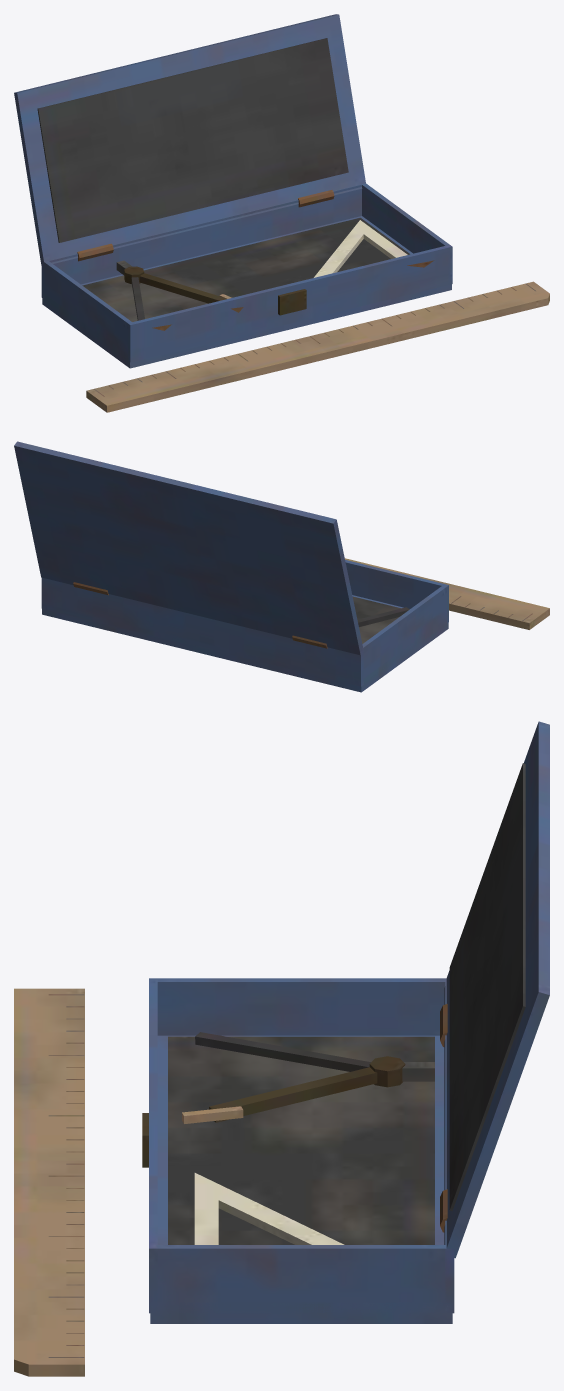
Rendered from SE02_ruler_and_geometry_box.glb.
3 views of the same model, one above another, from view 1: azimuth 30°, elevation 25°; view 2: azimuth 150°, elevation 25°; view 3: azimuth 270°, elevation 25° (orthographic). The views are drawn at different scales.
Parts seen in each view (by area): view 1: Tin bottom; view 2: Tin bottom; view 3: Tin bottom.
Boxes of the visible parts, box(x1,y1,x2,y2) form: Tin bottom: box(14, 14, 549, 412); Tin bottom: box(14, 441, 549, 692); Tin bottom: box(14, 721, 549, 1376).
Bounding box in the file's own units: 0.3 × 0.1236 × 0.1808.
Materials: 8 (8 with a texture image).
